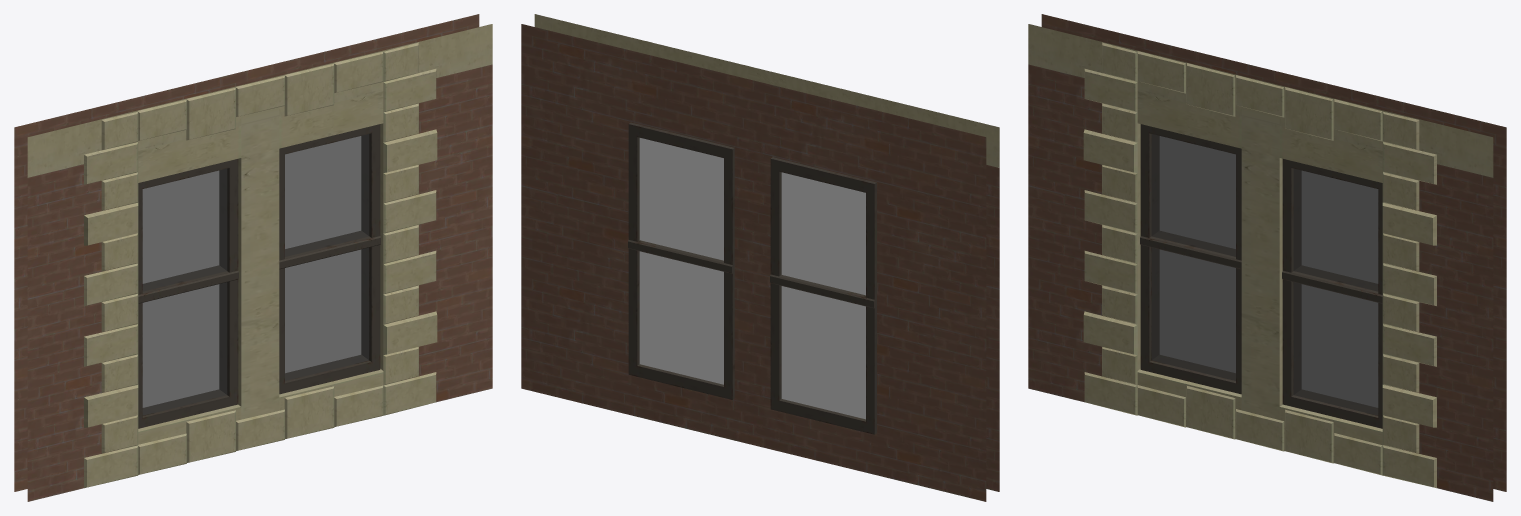
Rendered from Brick_RedWhite_DoubleWindow.glb.
3 views of the same model, side by side, from view 1: azimuth 30°, elevation 25°; view 2: azimuth 150°, elevation 25°; view 3: azimuth 330°, elevation 25° (orthographic).
Visible parts, largest first — view 1: Brick_RedWhite_DoubleWindow; view 2: Brick_RedWhite_DoubleWindow; view 3: Brick_RedWhite_DoubleWindow.
Boxes of the visible parts, bbox=[...] form: Brick_RedWhite_DoubleWindow: bbox=[14, 14, 492, 501]; Brick_RedWhite_DoubleWindow: bbox=[521, 14, 999, 501]; Brick_RedWhite_DoubleWindow: bbox=[1028, 14, 1506, 501].
Size of the model in its own units: 4 by 3 by 0.2774.
Materials: 5 (3 with a texture image).
